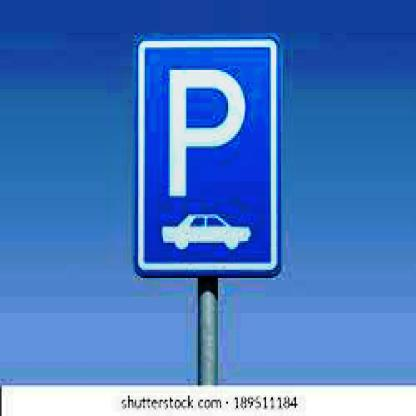Parking: (138, 40, 272, 274)
